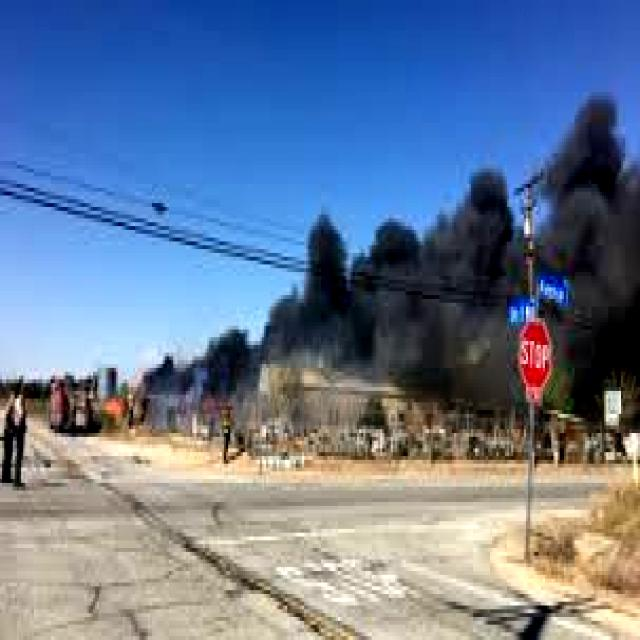no_helmet: (204, 136, 630, 396)
